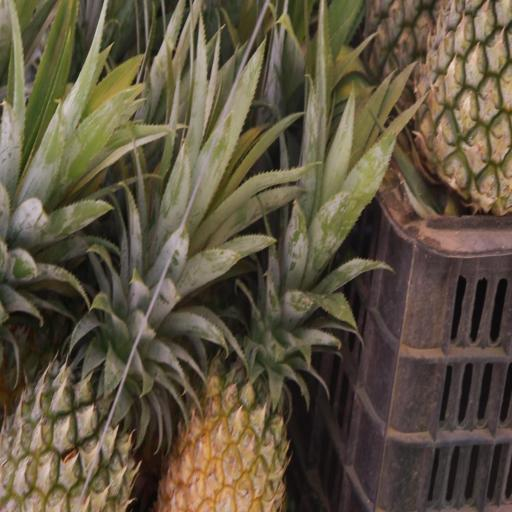Pineapple - v8 v1: (151, 333, 289, 512)
